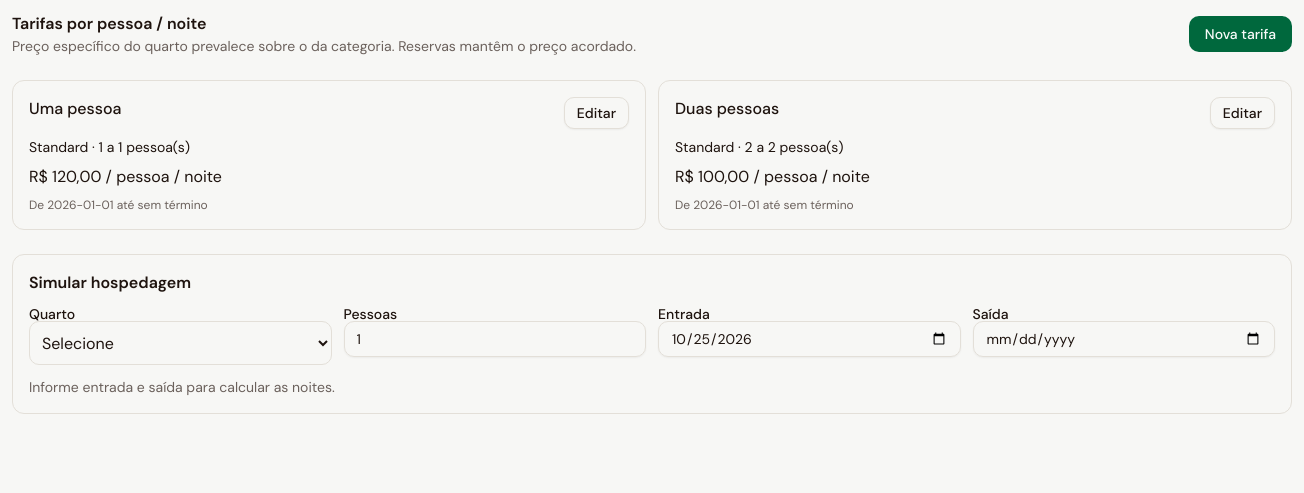
Protótipo da sprint 1 › simula por ocupação sem salvar nada e mostra erro de capacidade
Select "101 · Standard" in the dropdown labelled "Quarto": (180, 343) [29,321,332,365]
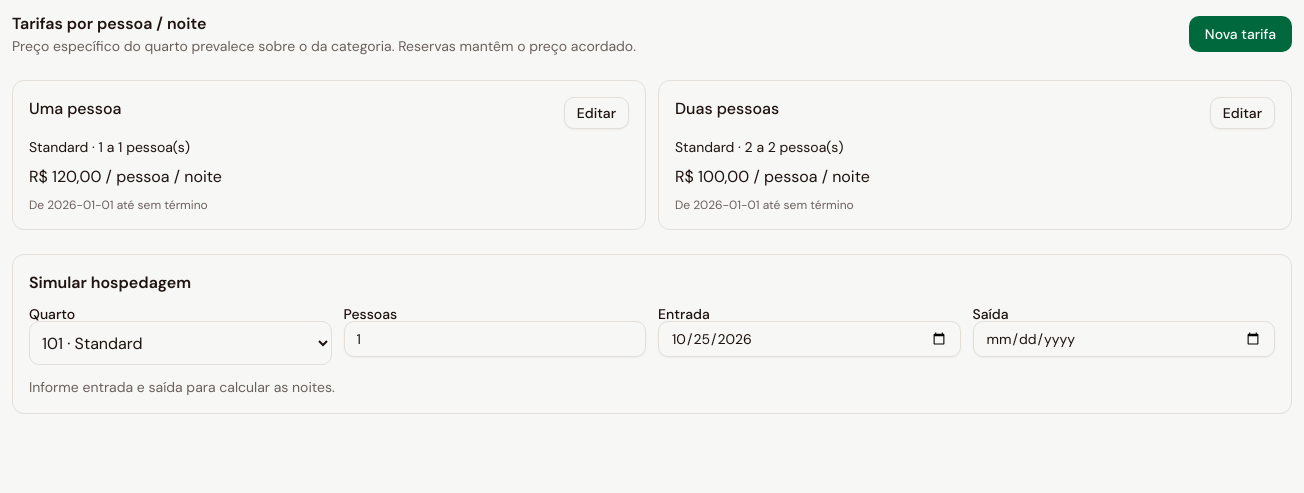
In the date field labelled "Entrada": (809, 339) [658,321,960,357], type "2026-10-09"
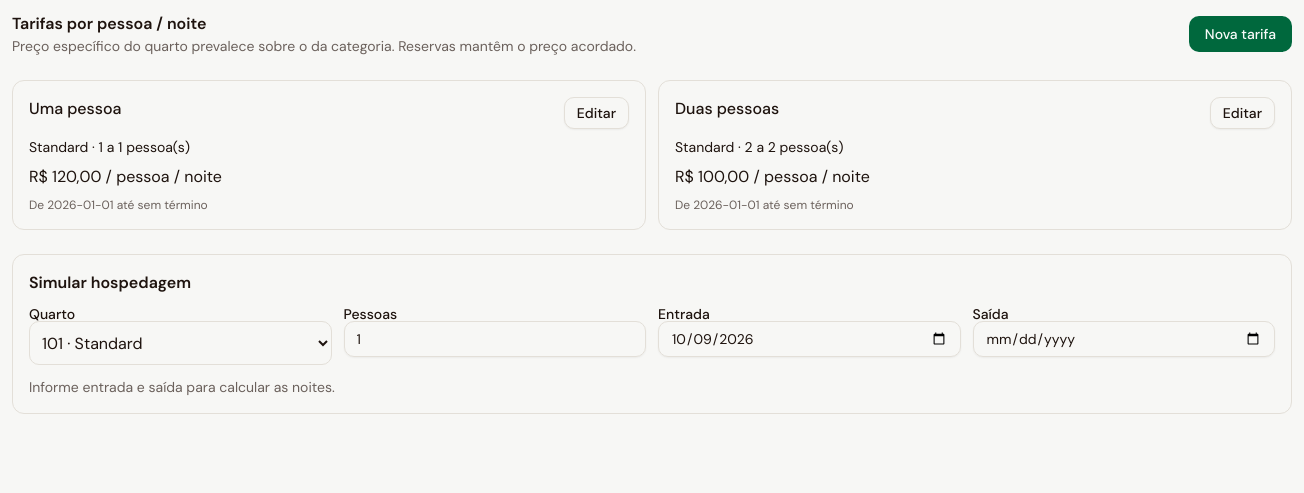
In the date field labelled "Saída": (1124, 339) [972,321,1275,357], type "2026-10-11"
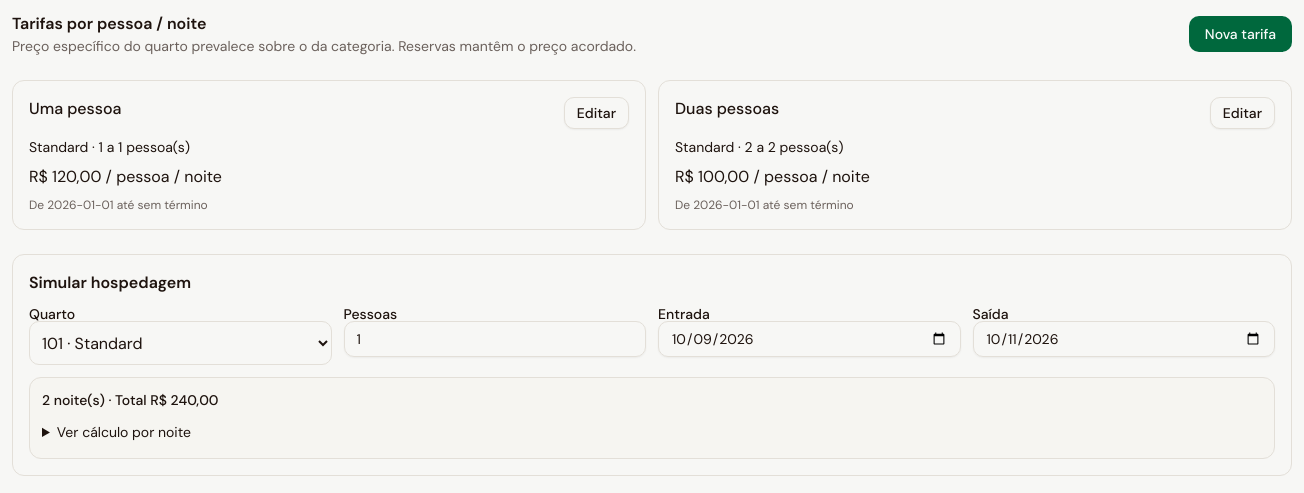
Result: the text "2 noite(s) · Total R$ 240,00" is shown at [42,391,218,409]
Replace the text in the number field labelled "Pessoas" with "2": (495, 339) [344,321,646,357]
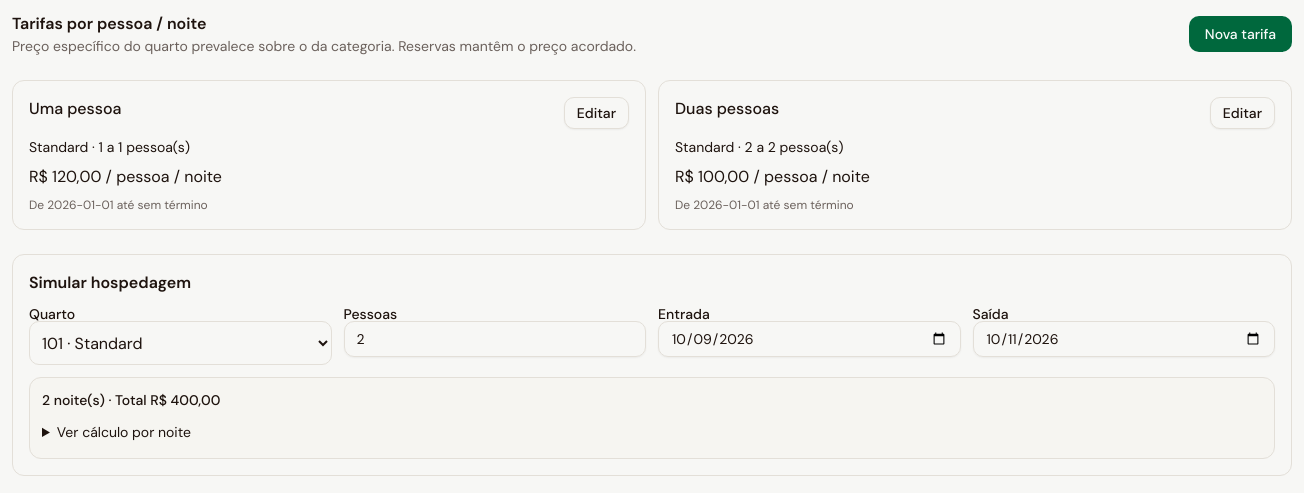
Result: the text "2 noite(s) · Total R$ 400,00" is shown at [42,391,220,409]
Replace the text in the number field labelled "Pessoas" with "3": (495, 339) [344,321,646,357]
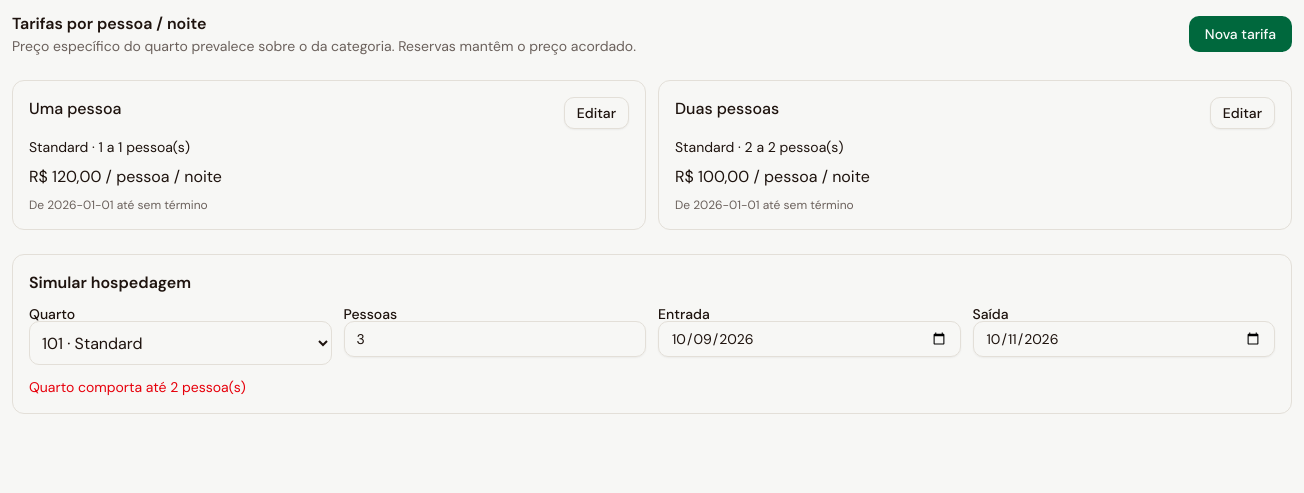
Result: the message shows "comporta até 2" at [29,378,246,396]
